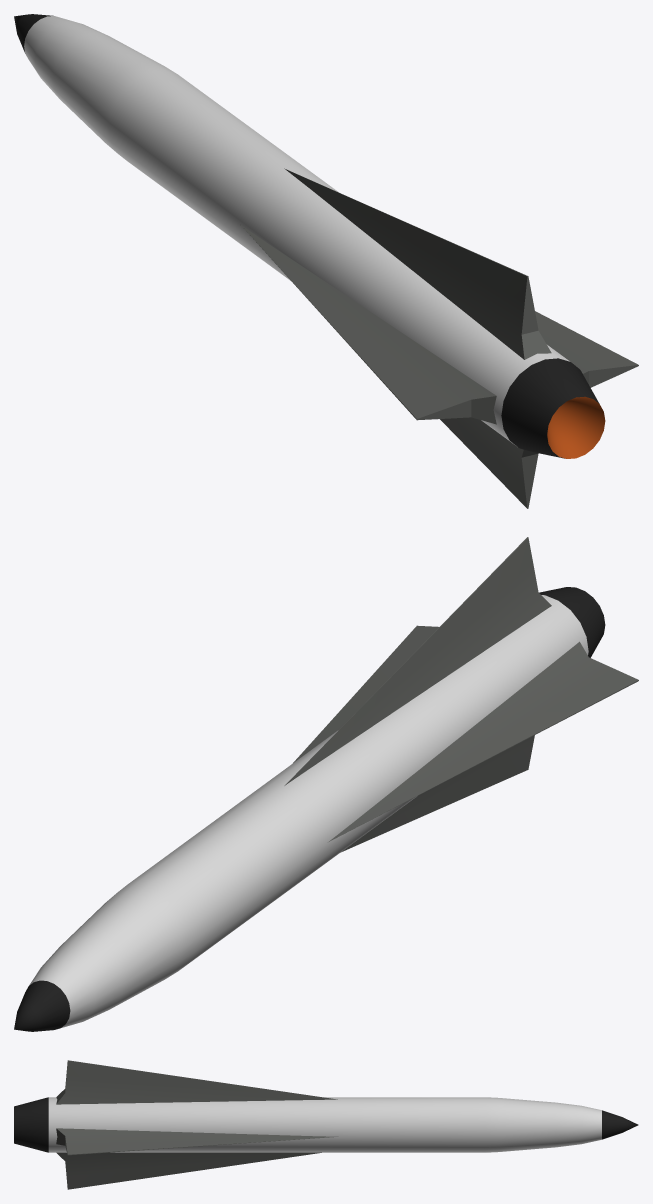
The model's file is Missile.fbx.
3 renders of one model, top to bottom at view 1: azimuth 30°, elevation 25°; view 2: azimuth 150°, elevation 25°; view 3: azimuth 270°, elevation 25°, orthographic. The views are drawn at different scales.
Visible parts, largest first — view 1: rocket; view 2: rocket; view 3: rocket.
Boxes of the visible parts, bbox=[...] form: rocket: bbox=[14, 14, 638, 508]; rocket: bbox=[14, 537, 638, 1031]; rocket: bbox=[14, 1060, 638, 1189].
Size of the model in its own units: 0.6214 by 0.6214 by 2.72.
